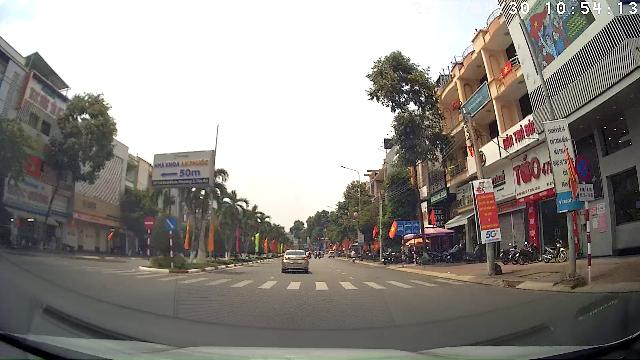130-cam-dung-va-do-xe: (575, 155, 591, 181)
